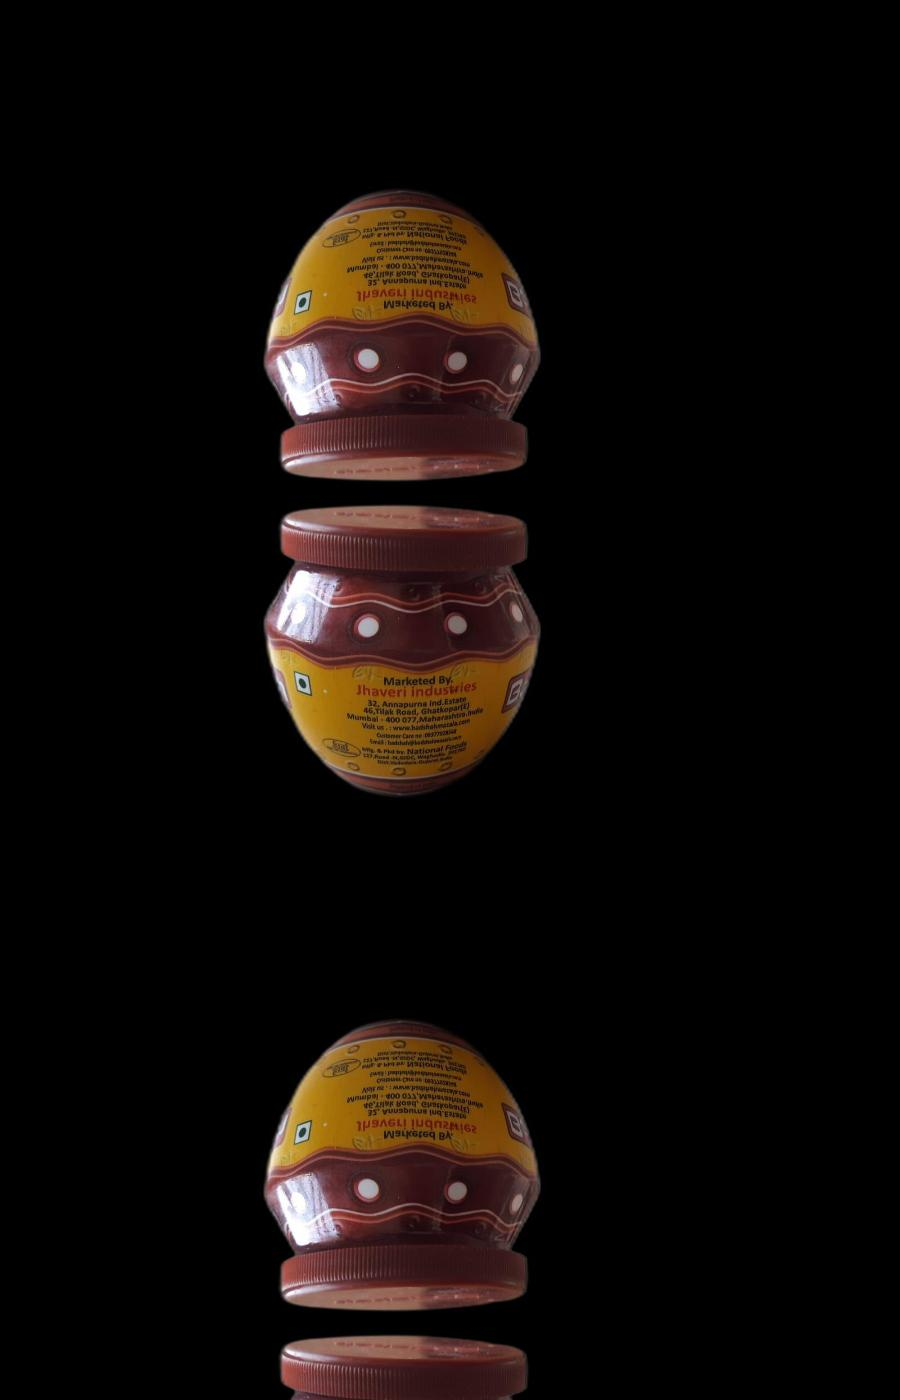Badshah Afgani Hing: (260, 503, 542, 799), (260, 185, 542, 481), (260, 1016, 542, 1312), (260, 1334, 541, 1400)
